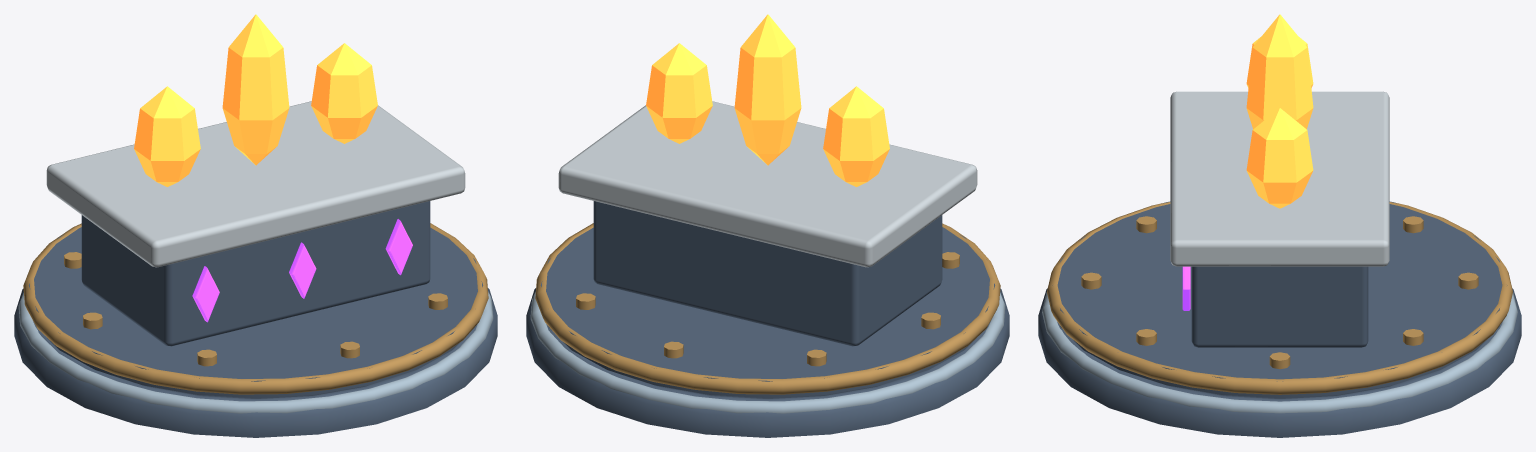
File: moonsteel-convergence-ember-offering-shrine-99d08544__18160.glb
3 views of the same model, side by side, from view 1: azimuth 30°, elevation 25°; view 2: azimuth 150°, elevation 25°; view 3: azimuth 270°, elevation 25° (orthographic).
Visible parts, largest first — view 1: ember-offering-shrine; view 2: ember-offering-shrine; view 3: ember-offering-shrine.
Boxes of the visible parts, x1,y1,x2,y2 form: ember-offering-shrine: (14,14,497,437); ember-offering-shrine: (526,14,1009,437); ember-offering-shrine: (1038,14,1521,437).
Size of the model in its own units: 2.6 by 1.91 by 2.6.
